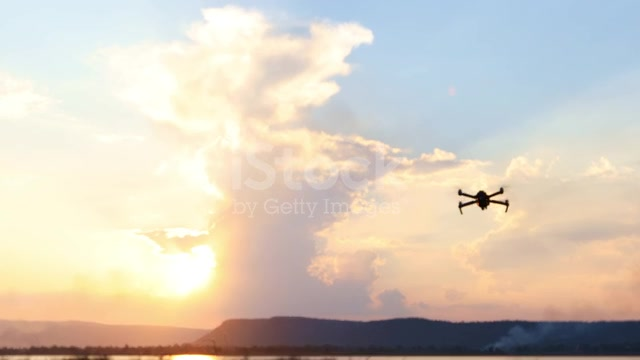drone_other: (458, 187, 508, 214)
